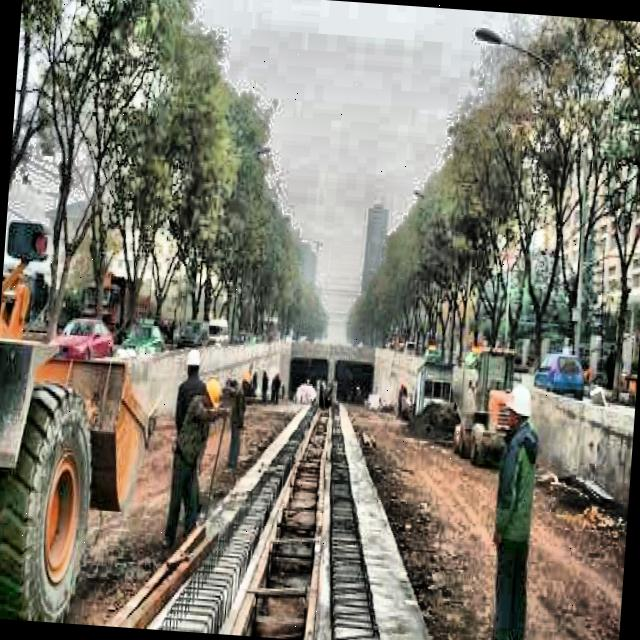helmet: (504, 380, 535, 439), (198, 372, 224, 412), (182, 341, 202, 386)
